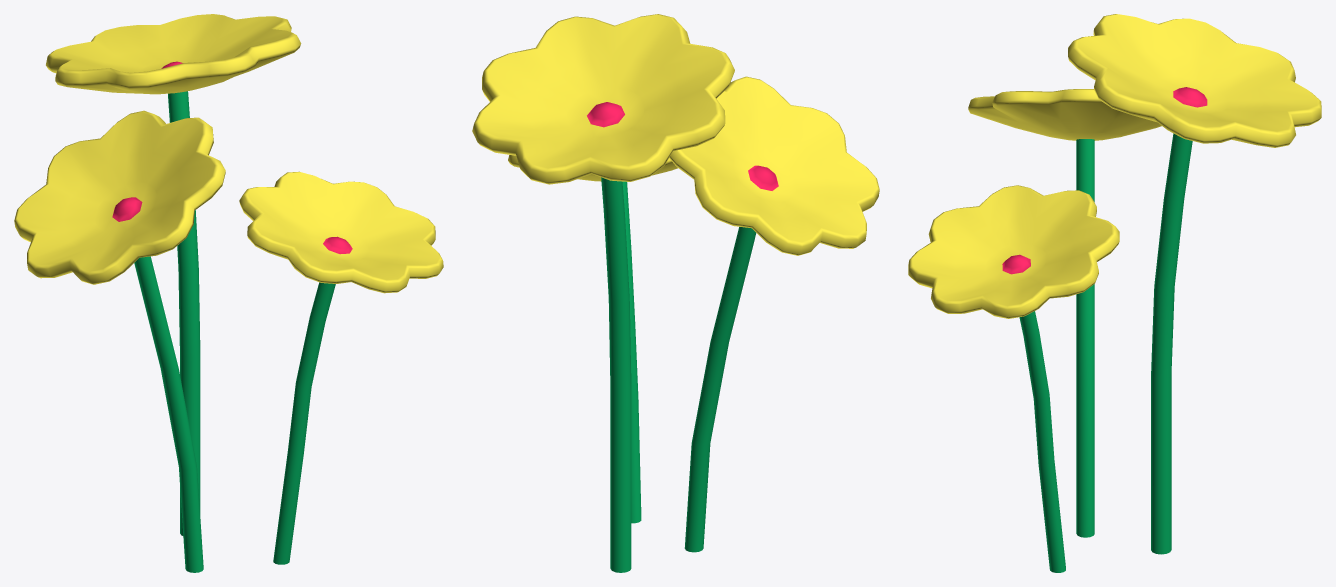
Rendered from Farm_6_Flowers_1.glb.
3 views of the same model, side by side, from view 1: azimuth 30°, elevation 25°; view 2: azimuth 150°, elevation 25°; view 3: azimuth 270°, elevation 25° (orthographic). The views are drawn at different scales.
Parts seen in each view (by area): view 1: Farm_6_Flowers_1; view 2: Farm_6_Flowers_1; view 3: Farm_6_Flowers_1.
Boxes of the visible parts, x1=… form: Farm_6_Flowers_1: x1=14, y1=14, x2=443, y2=572; Farm_6_Flowers_1: x1=472, y1=14, x2=879, y2=572; Farm_6_Flowers_1: x1=908, y1=14, x2=1321, y2=572.
Size of the model in its own units: 0.416 by 0.5487 by 0.4062.
1 material, 1 textured.
